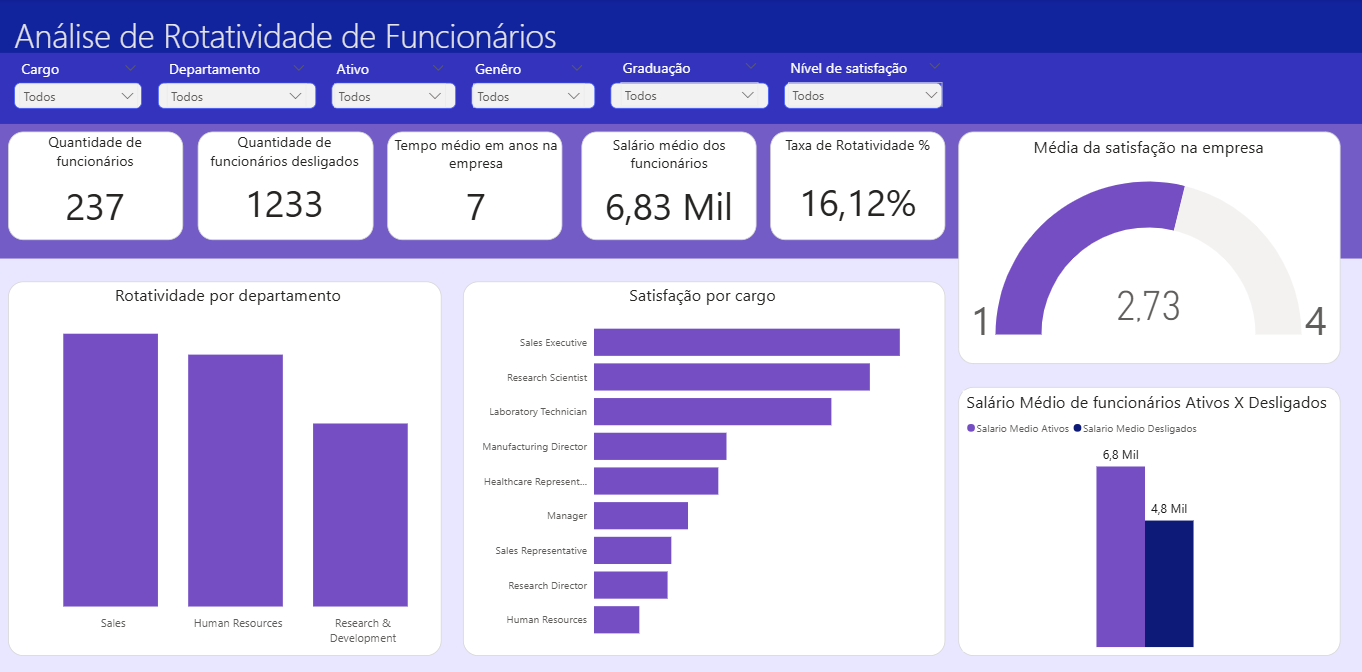

This screenshot's page, from the dashboard's own definition file:
{"tool":"powerbi","page":{"name":"Página 1","canvas":[1800,900],"ordinal":0},"visuals":[{"type":"card","title":"Taxa de Rotatividade %","fields":{"Values":["Medidas.Taxa de Rotatividade (%)"]},"box":[1030.4,177.5,212.3,150.5],"z":0},{"type":"card","title":"Salário médio dos funcionários","fields":{"Values":["Medidas.Salario Medio Ativos"]},"box":[781.5,177.5,216.1,135.1],"z":1000},{"type":"card","title":"Tempo médio em anos na empresa","fields":{"Values":["Medidas.Tempo Medio na Empresa"]},"box":[522.9,177.5,227.7,135.1],"z":2000},{"type":"gauge","title":"Média da satisfação na empresa","fields":{"Y":["Medidas.Satisfacao Media"],"MinValue":["Min(HR_tratado.JobSatisfaction)"],"MaxValue":["Max(HR_tratado.JobSatisfaction)1"]},"box":[1273.6,179.5,486.3,297.2],"z":3000},{"type":"columnChart","title":"Rotatividade por departamento","fields":{"Category":["WA_Fn-UseC_-HR-Employee-Attrition.Department"],"Y":["Medidas.Rotatividade por Departamento (%)"]},"box":[0,372.4,625.2,482.4],"z":4000},{"type":"clusteredColumnChart","title":"Salário Médio de funcionários Ativos X Desligados","fields":{"Y":["Medidas.Salario Medio Ativos","Medidas.Salario Medio Desligados"]},"box":[1273.6,513.3,486.3,341.6],"z":5000},{"type":"clusteredBarChart","title":"Satisfação por cargo","fields":{"Category":["WA_Fn-UseC_-HR-Employee-Attrition.JobRole"],"Y":["Sum(WA_Fn-UseC_-HR-Employee-Attrition.JobSatisfaction)"]},"box":[625.2,372.4,617.5,482.4],"z":6000},{"type":"card","title":"Quantidade de funcionários","fields":{"Values":["Count(WA_Fn-UseC_-HR-Employee-Attrition.EmployeeNumber)"]},"box":[27,175.6,221.9,142.8],"z":6001},{"type":"card","title":"Quantidade de funcionários desligados","fields":{"Values":["Count(WA_Fn-UseC_-HR-Employee-Attrition.EmployeeNumber)"]},"box":[270.2,175.6,233.5,135.1],"z":6002},{"type":"textbox","box":[27,15.4,862.6,108.1],"z":6003},{"type":"slicer","fields":{"Values":["WA_Fn-UseC_-HR-Employee-Attrition.JobRole"]},"box":[28.9,75.3,175.6,92.6],"z":6004},{"type":"slicer","fields":{"Values":["WA_Fn-UseC_-HR-Employee-Attrition.Department"]},"box":[221.9,75.3,202.6,92.6],"z":6005},{"type":"slicer","fields":{"Values":["WA_Fn-UseC_-HR-Employee-Attrition.Attrition"]},"box":[441.9,75.3,166,92.6],"z":6006},{"type":"slicer","fields":{"Values":["WA_Fn-UseC_-HR-Employee-Attrition.JobSatisfaction"]},"box":[1034.3,73.3,221.9,92.6],"z":6007},{"type":"slicer","fields":{"Values":["WA_Fn-UseC_-HR-Employee-Attrition.Gender"]},"box":[623.3,75.3,166,92.6],"z":6008},{"type":"slicer","fields":{"Values":["WA_Fn-UseC_-HR-Employee-Attrition.EducationField"]},"box":[816.3,73.3,200.7,92.6],"z":6009}]}

Visuals, with their boxes in screenshot pixels (x1, y1, x2, y2), scaled from the page's 1800x900 canvas onto the 1362x672 screenshot:
"Taxa de Rotatividade %" card: 780/133/940/245
"Salário médio dos funcionários" card: 591/133/755/233
"Tempo médio em anos na empresa" card: 396/133/568/233
"Média da satisfação na empresa" gauge: 964/134/1332/356
"Rotatividade por departamento" columnChart: 0/278/473/638
"Salário Médio de funcionários Ativos X Desligados" clusteredColumnChart: 964/383/1332/638
"Satisfação por cargo" clusteredBarChart: 473/278/940/638
"Quantidade de funcionários" card: 20/131/188/238
"Quantidade de funcionários desligados" card: 204/131/381/232
textbox: 20/11/673/92
slicer - WA_Fn-UseC_-HR-Employee-Attrition.JobRole: 22/56/155/125
slicer - WA_Fn-UseC_-HR-Employee-Attrition.Department: 168/56/321/125
slicer - WA_Fn-UseC_-HR-Employee-Attrition.Attrition: 334/56/460/125
slicer - WA_Fn-UseC_-HR-Employee-Attrition.JobSatisfaction: 783/55/951/124
slicer - WA_Fn-UseC_-HR-Employee-Attrition.Gender: 472/56/597/125
slicer - WA_Fn-UseC_-HR-Employee-Attrition.EducationField: 618/55/770/124
